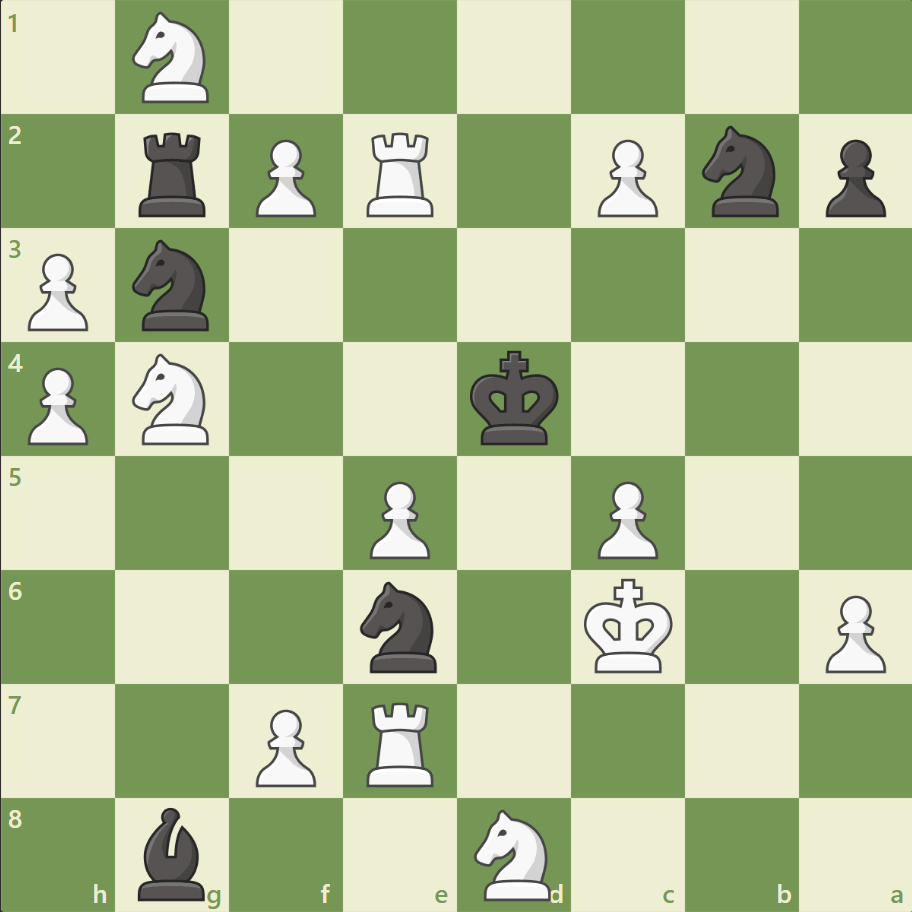K: (579, 571, 679, 679)
N: (124, 7, 222, 110), (124, 348, 222, 450), (465, 802, 562, 904)
P: (247, 700, 322, 791), (20, 359, 95, 450), (20, 246, 95, 337), (247, 132, 322, 223), (815, 586, 889, 677), (588, 473, 662, 564), (361, 473, 435, 564), (588, 132, 662, 223)
R: (360, 693, 442, 790), (360, 125, 442, 222)
b: (131, 801, 215, 904)
k: (465, 344, 565, 452)
n: (124, 234, 222, 337), (351, 575, 449, 677), (692, 121, 789, 223)
p: (815, 132, 889, 223)
r: (133, 125, 215, 222)
